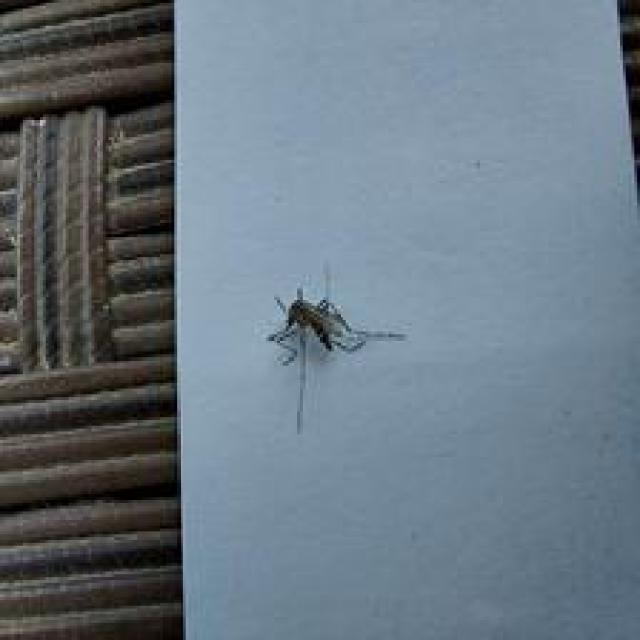Aedes albopictus: (264, 278, 407, 433)
